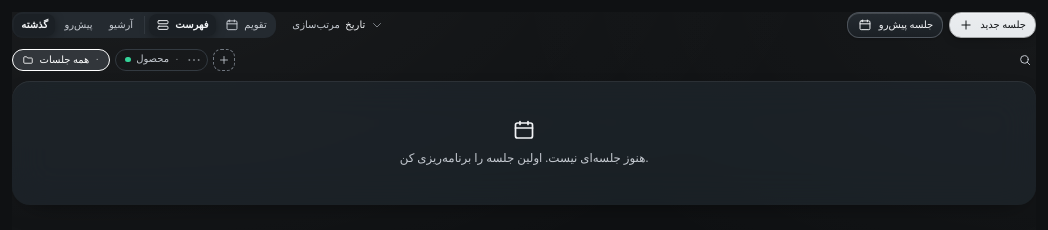
Test case: the folder strip's box › the `+` opens the box, and Enter writes the new folder
Expected: the button "محصول ۰" is shown, [125,53,180,66]
Click the button named "موضوع جدید" at (224, 60), box [213,49,235,70]
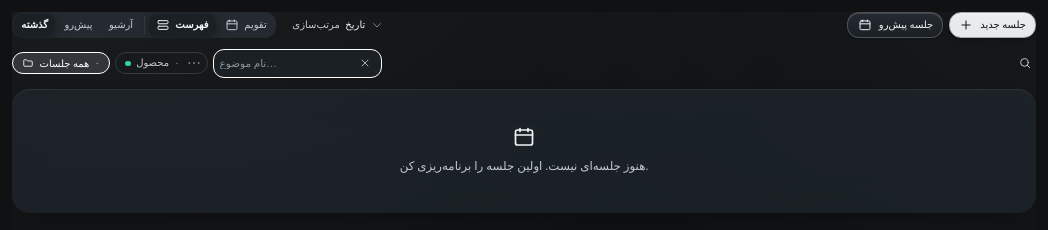
Type "بازاریابی" into the field with placeholder "نام موضوع…" at (285, 63), box [220,50,350,77]
Then press Enter
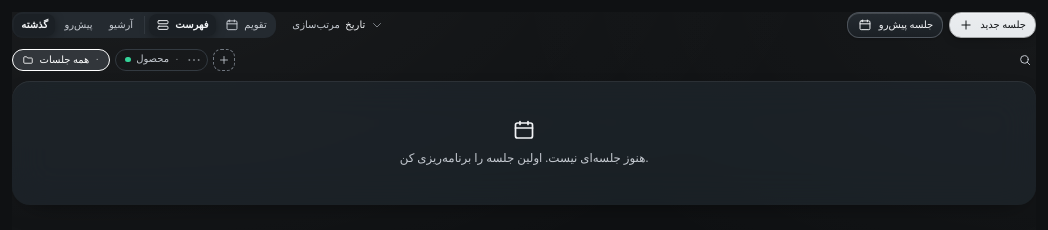
Expected: the field with placeholder "نام موضوع…" is not shown
Expected: the button named "موضوع جدید" is shown, [213,49,235,70]
